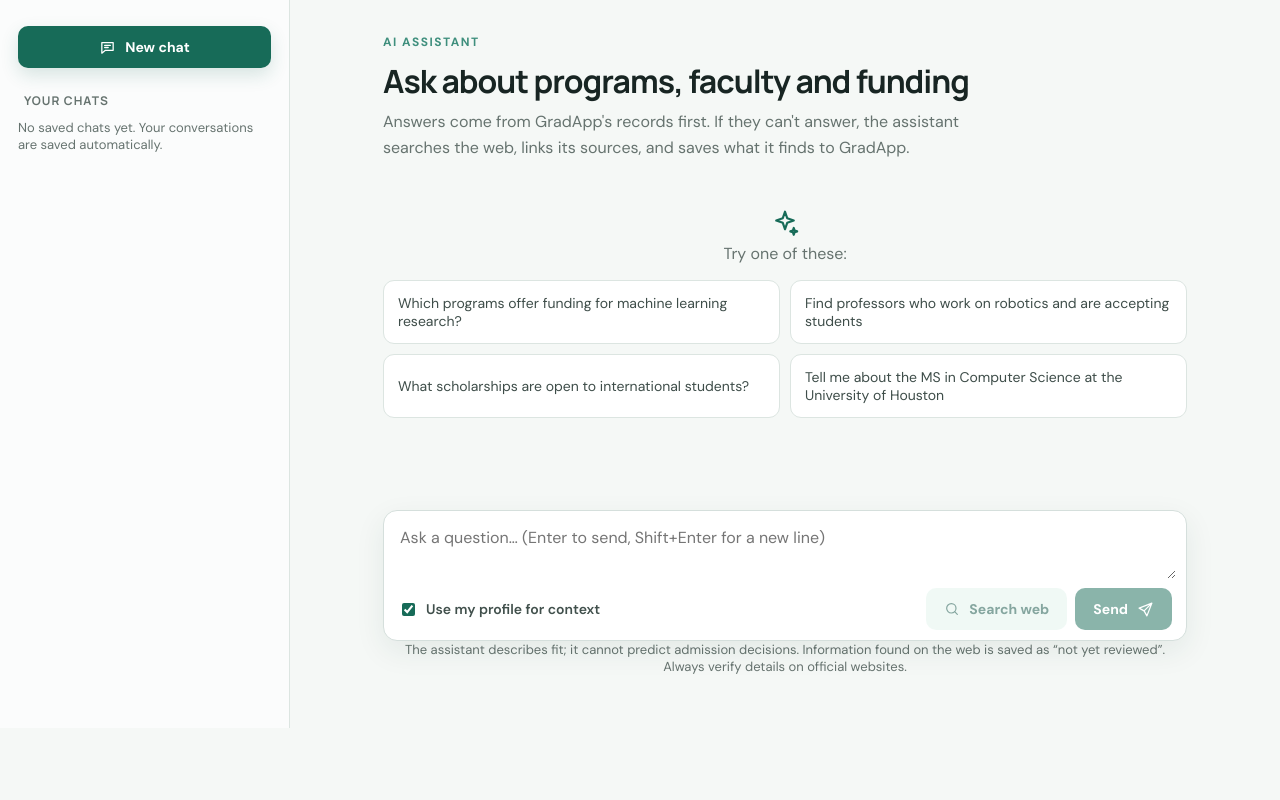
Test: AskPage › starts a saved conversation and shows web sources and saved records
The width and height of the screenshot is (1280, 800).
Type "UH computer science" into the text box named "Your question" at (785, 550), box [394,521,1176,579]
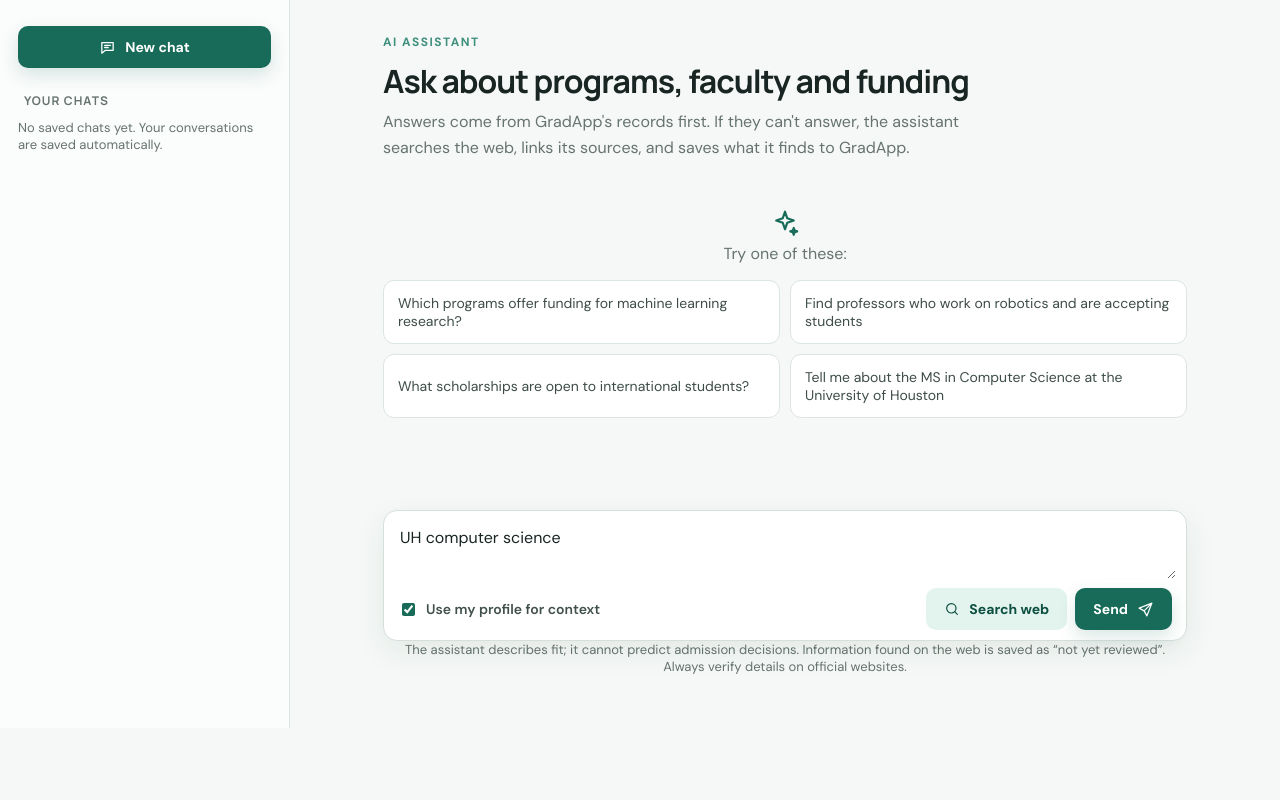
Click the button "Send" at (1124, 609), box [1075,588,1172,630]
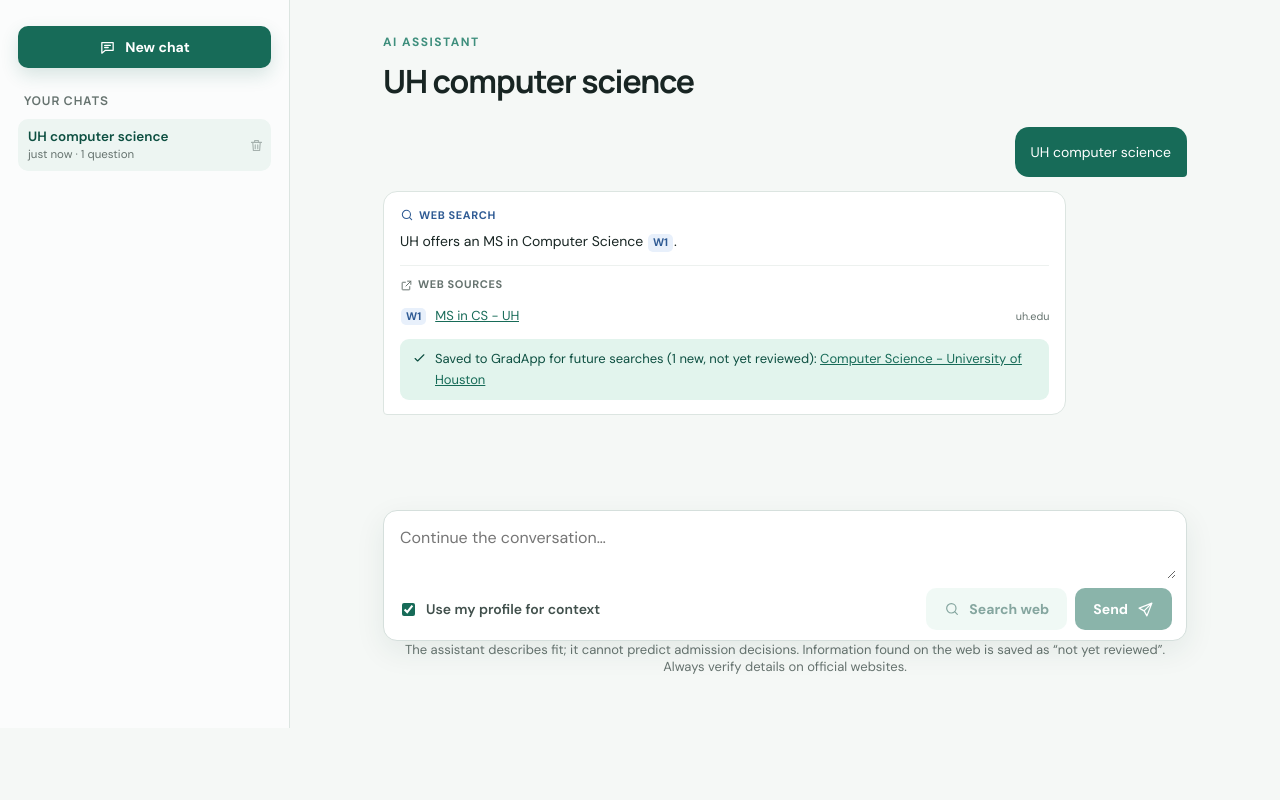
Now the text "Web search" is shown, box [400,207,496,224]
Now the text "Saved to GradApp for future searches (1 new" is shown, box [435,349,1037,390]
Now the text "UH computer science" below "Your chats" is shown, box [28,128,168,145]
